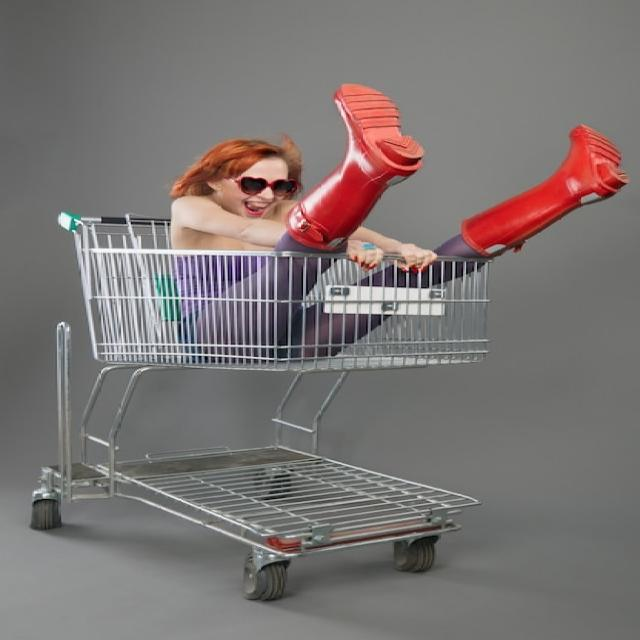Person: (170, 82, 629, 361)
